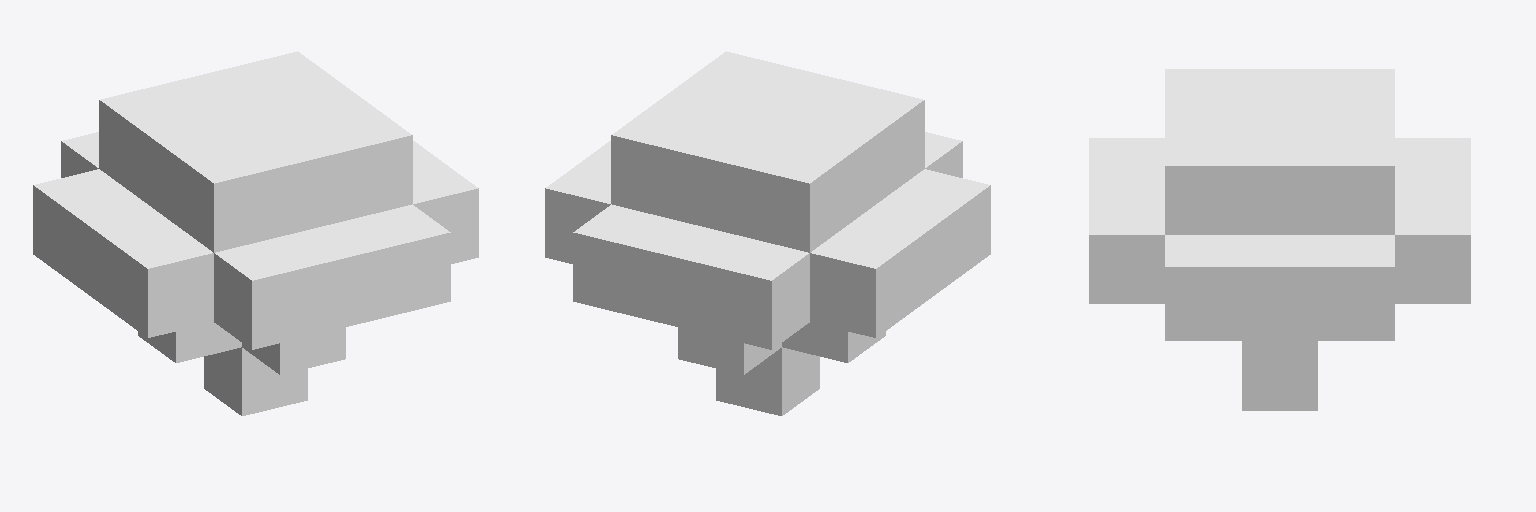
The model's file is dia2.obj.
3 views of the same model, side by side, from view 1: azimuth 30°, elevation 25°; view 2: azimuth 150°, elevation 25°; view 3: azimuth 270°, elevation 25° (orthographic).
Parts seen in each view (by area): view 1: object 1; view 2: object 1; view 3: object 1.
Boxes of the visible parts, x1,y1,x2,y2 form: object 1: [33, 51, 478, 415]; object 1: [545, 51, 990, 415]; object 1: [1089, 69, 1470, 410].
Bounding box in the file's own units: 0.5 × 0.4 × 0.5.